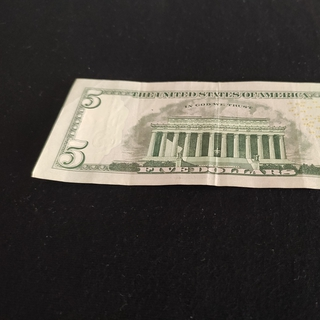5USDBack: (30, 77, 320, 190)
